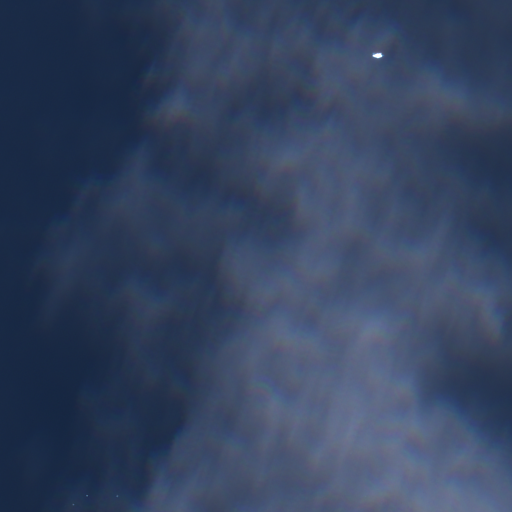Iceberg: (372, 53, 383, 58), (72, 504, 74, 505), (86, 495, 87, 496), (116, 495, 117, 496)
